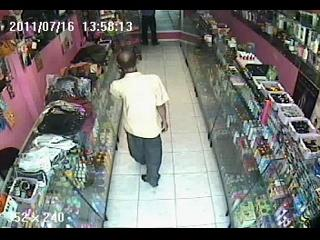Normal: (109, 47, 170, 188), (140, 10, 160, 46)
